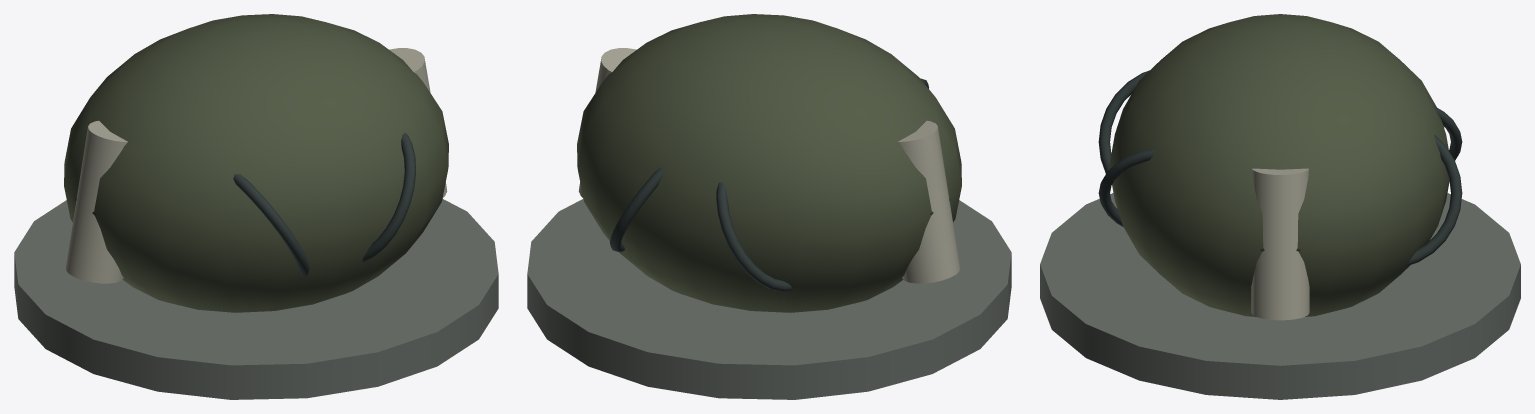
File: secret-membrane-v1.glb
3 views of the same model, side by side, from view 1: azimuth 30°, elevation 25°; view 2: azimuth 150°, elevation 25°; view 3: azimuth 270°, elevation 25° (orthographic).
Parts seen in each view (by area): view 1: living-membrane, grounded-base, ceramic-support (×2), retaining-rib (×2); view 2: living-membrane, grounded-base, ceramic-support (×2), retaining-rib (×2); view 3: living-membrane, grounded-base, ceramic-support, retaining-rib (×4).
Part boxes in pixels (x1=…): living-membrane: x1=64, y1=14, x2=448, y2=312; grounded-base: x1=14, y1=199, x2=498, y2=399; ceramic-support (×2): x1=65, y1=48, x2=447, y2=283; retaining-rib (×2): x1=233, y1=132, x2=416, y2=276; living-membrane: x1=577, y1=14, x2=961, y2=312; grounded-base: x1=527, y1=199, x2=1011, y2=399; ceramic-support (×2): x1=578, y1=48, x2=960, y2=283; retaining-rib (×2): x1=610, y1=167, x2=792, y2=291; living-membrane: x1=1109, y1=14, x2=1449, y2=316; grounded-base: x1=1040, y1=193, x2=1520, y2=399; ceramic-support: x1=1251, y1=168, x2=1309, y2=320; retaining-rib (×4): x1=1098, y1=70, x2=1462, y2=265.
Bounding box in the file's own units: 2.3 × 1.37 × 2.3.
